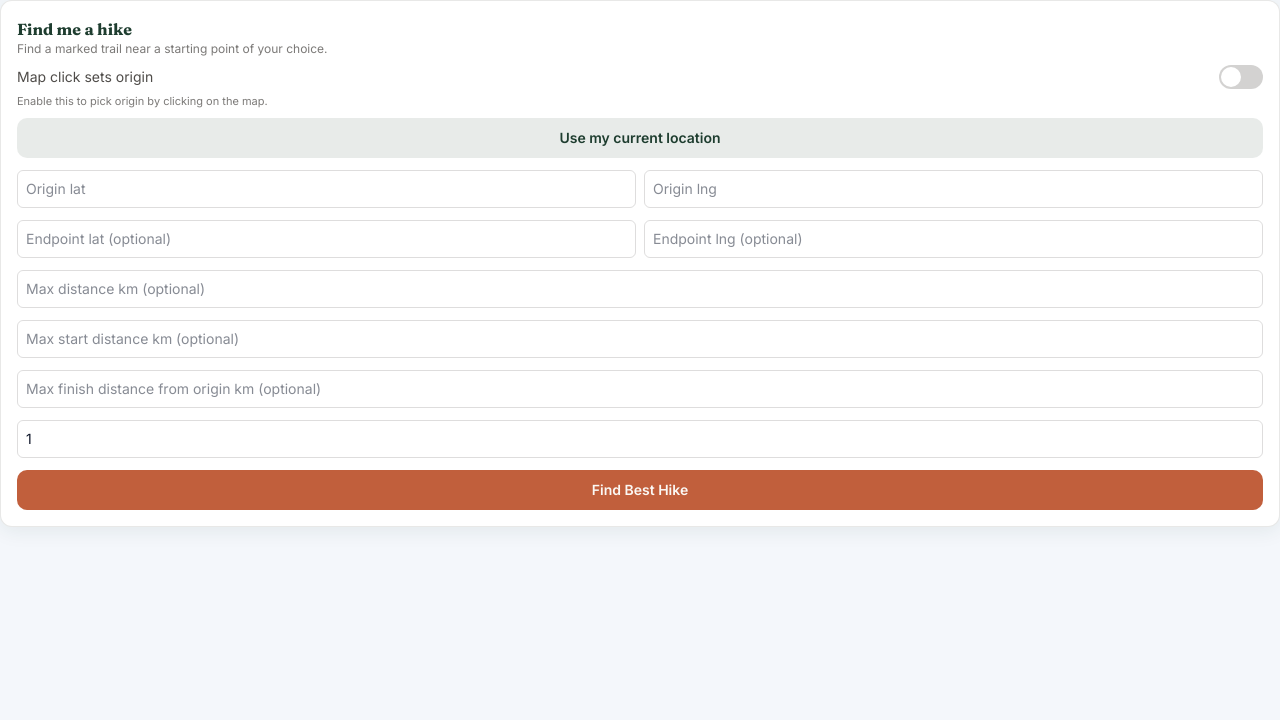
it: HikeSearchPanel validation › rejects out-of-range latitude/longitude
This screenshot has width=1280, height=720.
Step 1. Type "999" into the field with placeholder "Origin lat" → [326, 188], box x1=17 y1=170 x2=636 y2=208
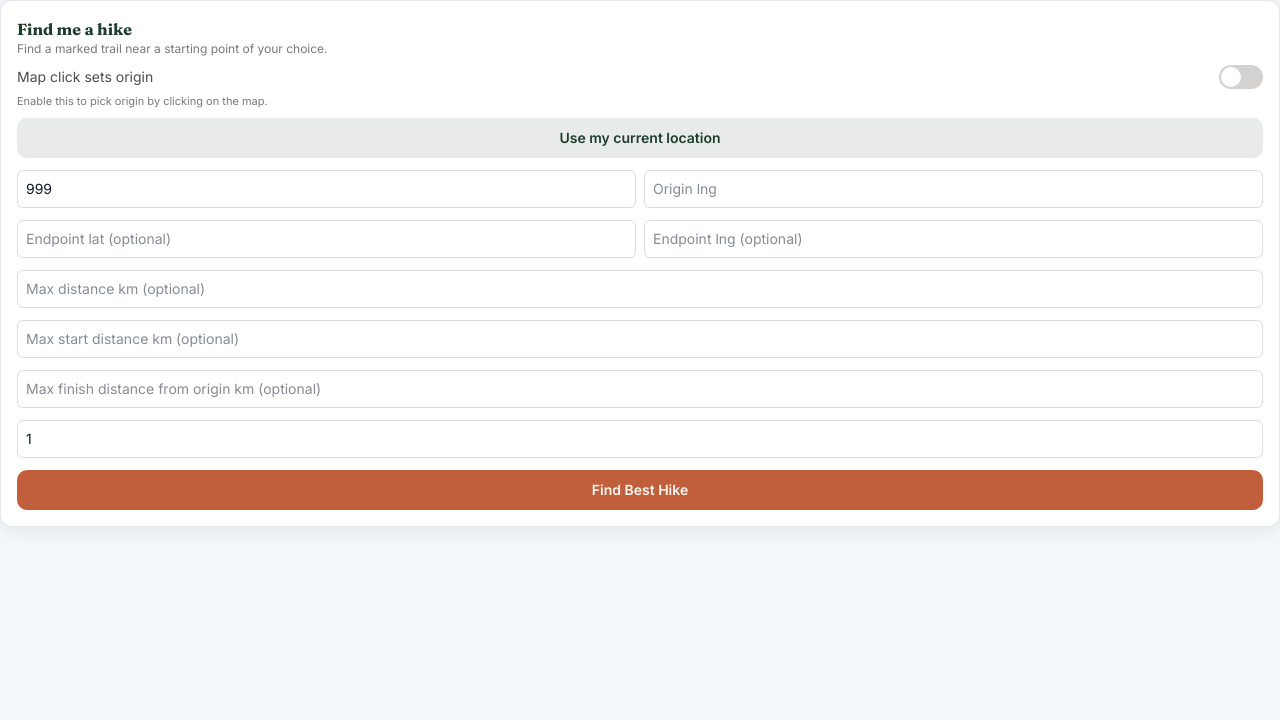
Step 2. Type "999" into the field with placeholder "Origin lng" → [954, 188], box x1=644 y1=170 x2=1263 y2=208
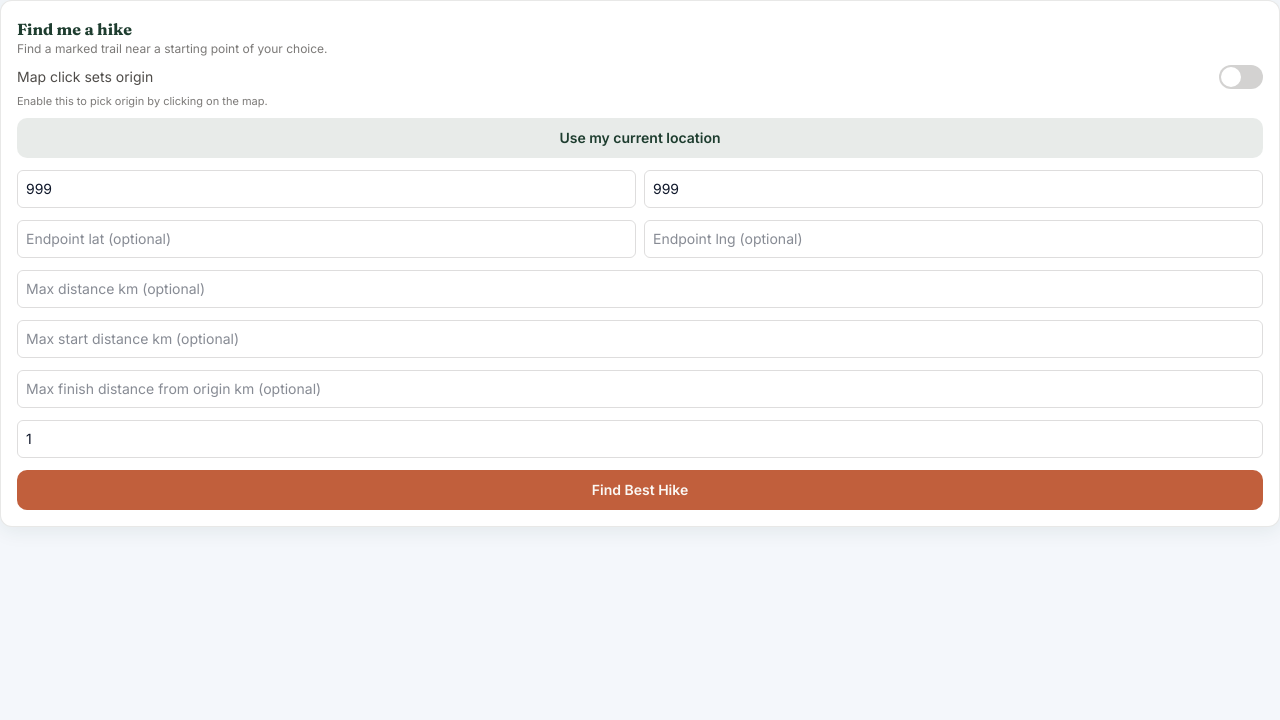
Step 3. Click the button "Find Best Hike" → [640, 490], box x1=17 y1=470 x2=1263 y2=510
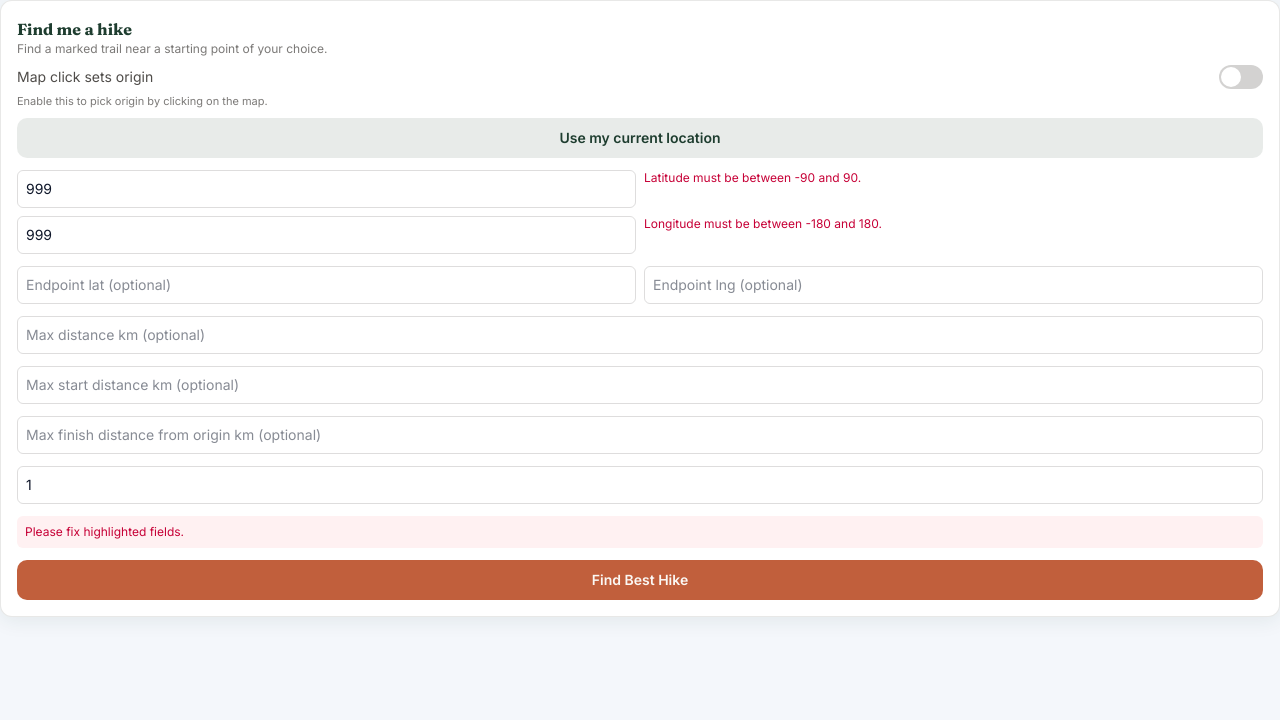
Now the text "Latitude must be between -90 and 90." is shown, box x1=644 y1=170 x2=861 y2=184
Now the text "Longitude must be between -180 and 180." is shown, box x1=644 y1=216 x2=882 y2=230
